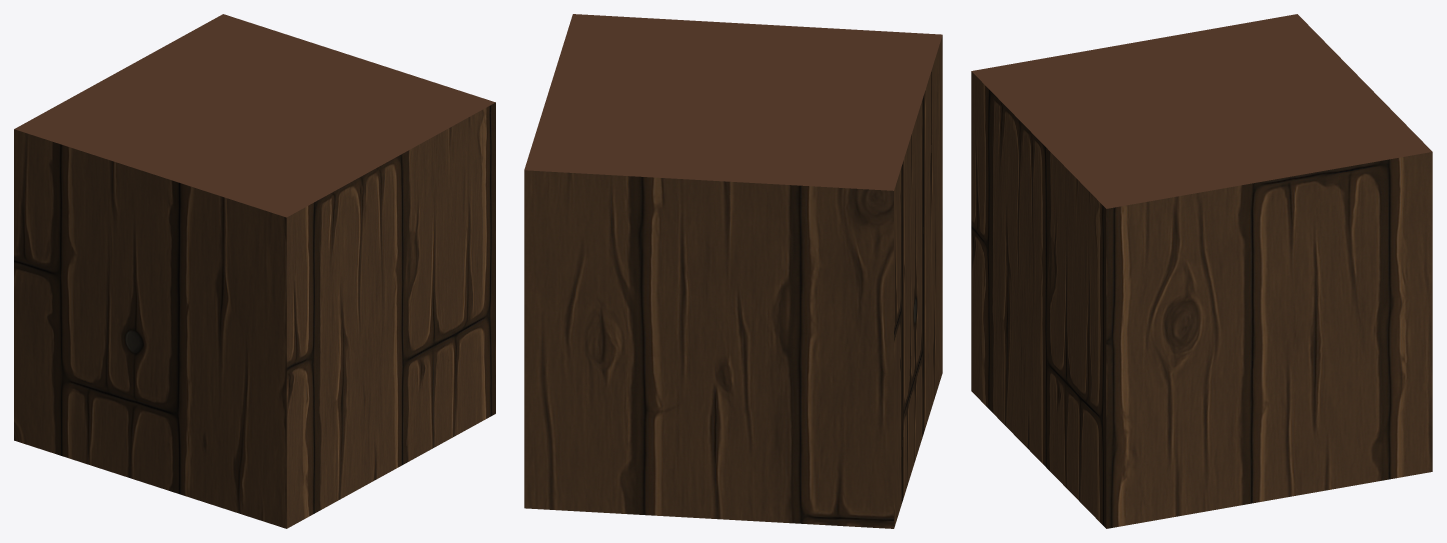
File: blocco_uv_def.fbx
3 renders of one model, left to right at view 1: azimuth 30°, elevation 25°; view 2: azimuth 150°, elevation 25°; view 3: azimuth 270°, elevation 25°, orthographic. The views are drawn at different scales.
Visible parts, largest first — view 1: Muro_dritto.005; view 2: Muro_dritto.005; view 3: Muro_dritto.005.
Boxes of the visible parts, <box> form: Muro_dritto.005: <box>14,14,495,528</box>; Muro_dritto.005: <box>524,14,942,528</box>; Muro_dritto.005: <box>971,14,1432,528</box>.
Size of the model in its own units: 261 by 200 by 261.
Materials: 2 (2 with a texture image).
